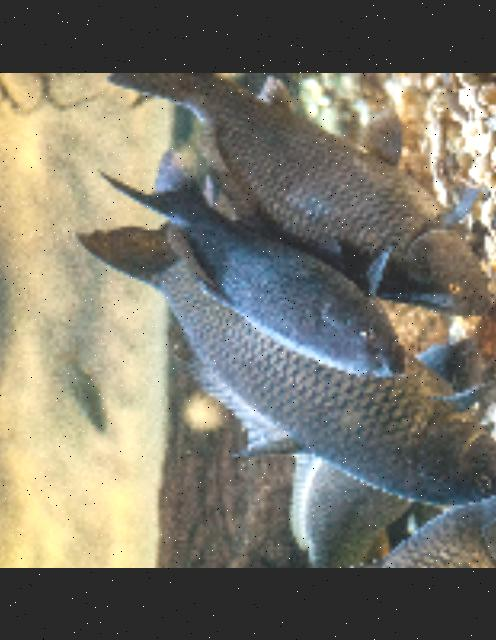Mulut: (381, 339, 429, 387)
Sirip Ekor: (61, 208, 181, 290), (98, 146, 224, 218), (94, 72, 222, 120)
Sirip Punggung: (176, 349, 312, 467)
